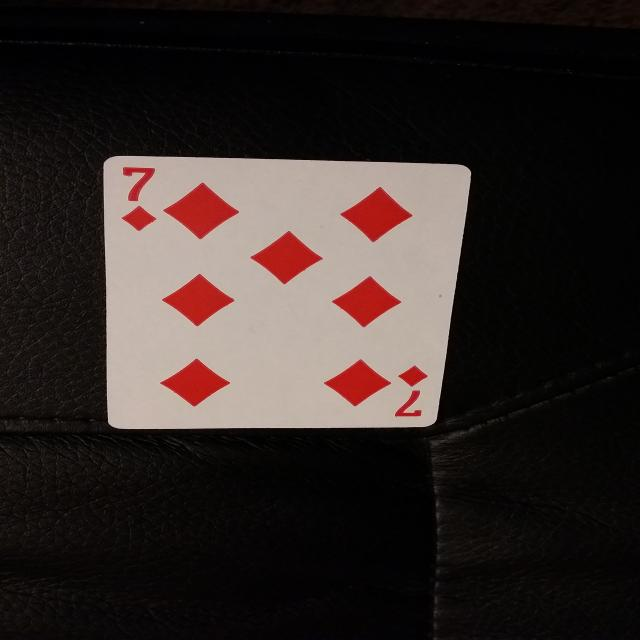7d: (106, 161, 180, 233), (385, 360, 434, 420)
